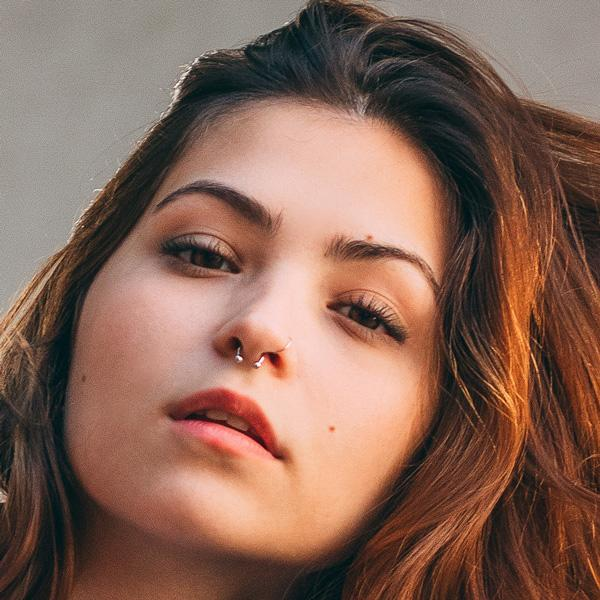Eyes: (152, 222, 249, 283), (322, 284, 413, 349)
